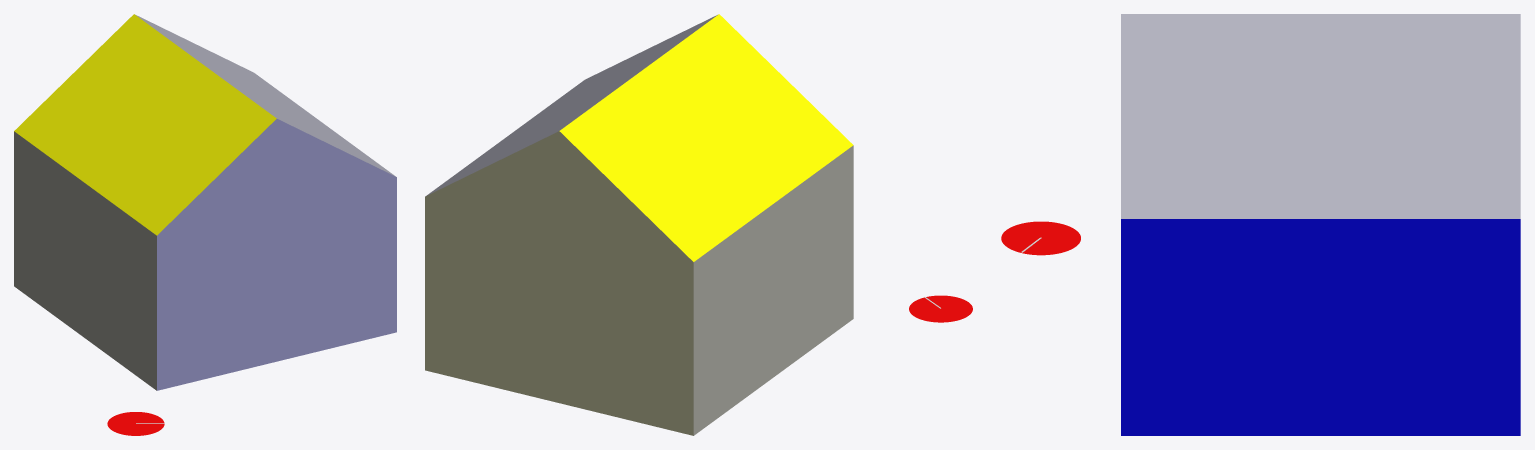
File: result.glb
The picture shows the model from 3 angles, left to right: view 1: azimuth 30°, elevation 25°; view 2: azimuth 150°, elevation 25°; view 3: azimuth 270°, elevation 25°; orthographic projection. The views are drawn at different scales.
Visible parts, largest first — view 1: 85ea0a67-dd34-4a2a-9215-b61016be7bfb__undefined, 30056a1a-7fac-4dcd-a230-5133eddc6162__undefined, d650dbdd-e0a0-434a-8321-5488ab62c133__undefined, 75a10d80-0533-4bf9-a61d-01cba30b62ba__undefined, f66f988d-2030-4db2-84d5-1bd2603c4ced__Circle; view 2: bf80ea9d-fe7e-4863-af58-1dc5c0b897bf__undefined, 30056a1a-7fac-4dcd-a230-5133eddc6162__undefined, d650dbdd-e0a0-434a-8321-5488ab62c133__undefined, 75a10d80-0533-4bf9-a61d-01cba30b62ba__undefined, f66f988d-2030-4db2-84d5-1bd2603c4ced__Circle; view 3: c2ec4ccf-8355-419d-8b5f-2230e9face90__undefined, 75a10d80-0533-4bf9-a61d-01cba30b62ba__undefined, f66f988d-2030-4db2-84d5-1bd2603c4ced__Circle.
Boxes of the visible parts, <box> form: 85ea0a67-dd34-4a2a-9215-b61016be7bfb__undefined: <box>157,119,396,390</box>; 30056a1a-7fac-4dcd-a230-5133eddc6162__undefined: <box>14,14,276,235</box>; d650dbdd-e0a0-434a-8321-5488ab62c133__undefined: <box>14,131,156,390</box>; 75a10d80-0533-4bf9-a61d-01cba30b62ba__undefined: <box>136,15,395,176</box>; f66f988d-2030-4db2-84d5-1bd2603c4ced__Circle: <box>107,412,164,435</box>; bf80ea9d-fe7e-4863-af58-1dc5c0b897bf__undefined: <box>425,131,693,435</box>; 30056a1a-7fac-4dcd-a230-5133eddc6162__undefined: <box>559,14,853,261</box>; d650dbdd-e0a0-434a-8321-5488ab62c133__undefined: <box>693,145,853,435</box>; 75a10d80-0533-4bf9-a61d-01cba30b62ba__undefined: <box>426,15,717,195</box>; f66f988d-2030-4db2-84d5-1bd2603c4ced__Circle: <box>909,295,972,322</box>; c2ec4ccf-8355-419d-8b5f-2230e9face90__undefined: <box>1121,219,1520,435</box>; 75a10d80-0533-4bf9-a61d-01cba30b62ba__undefined: <box>1121,14,1520,218</box>; f66f988d-2030-4db2-84d5-1bd2603c4ced__Circle: <box>1001,221,1080,255</box>.
Size of the model in its own units: 635 by 469 by 650.
